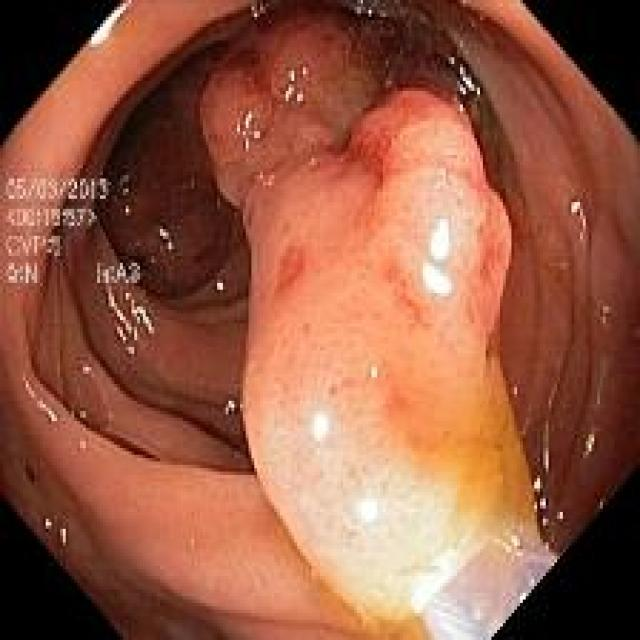Polyps: (200, 9, 552, 637)
